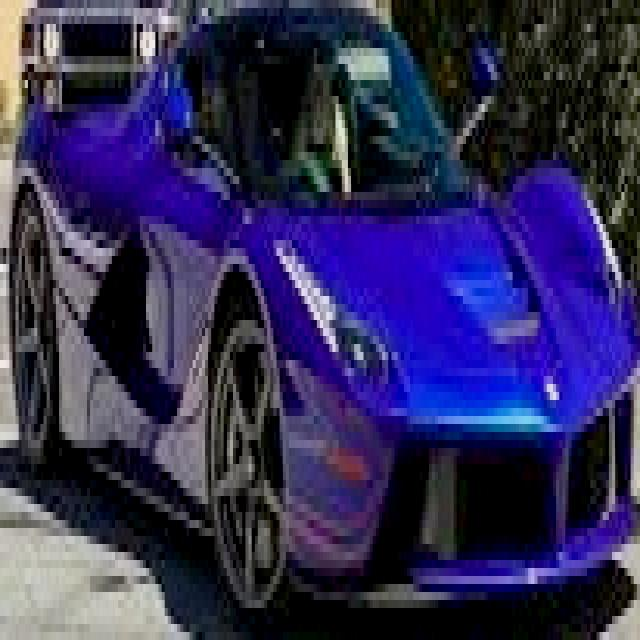blue: (0, 0, 634, 640), (630, 0, 635, 32)
